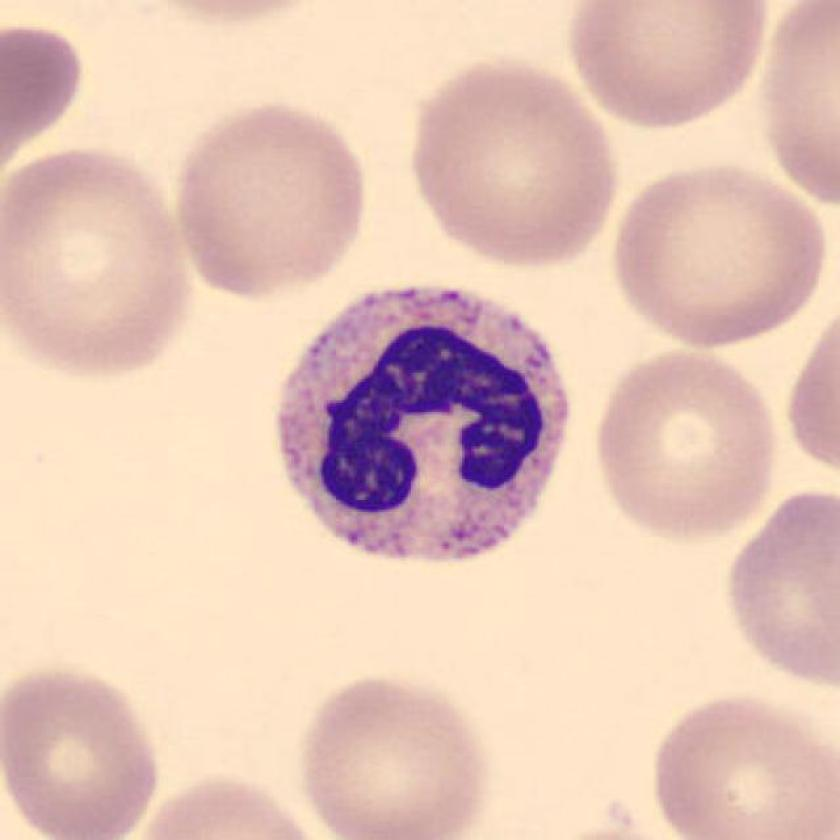neutrophil: (278, 287, 567, 564)
